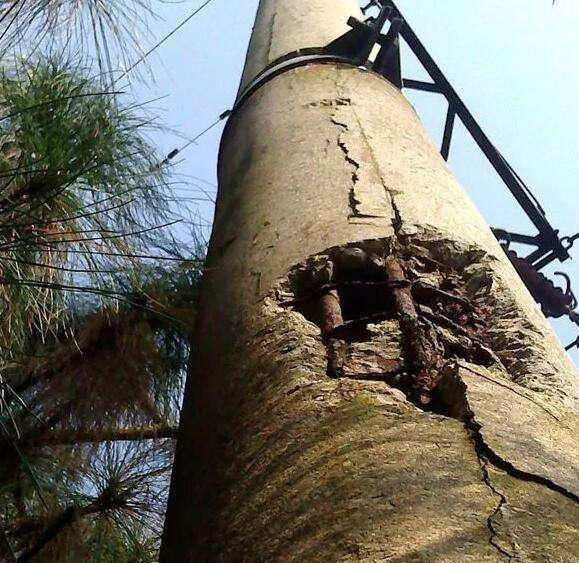Crack: (461, 419, 579, 504), (306, 96, 385, 219), (475, 453, 512, 563)
Exposed reinforcement: (385, 253, 436, 405), (275, 278, 410, 307), (318, 281, 348, 377), (317, 309, 401, 338), (411, 280, 476, 313), (414, 305, 469, 337), (342, 364, 414, 379)
Spalling: (261, 225, 543, 420)
